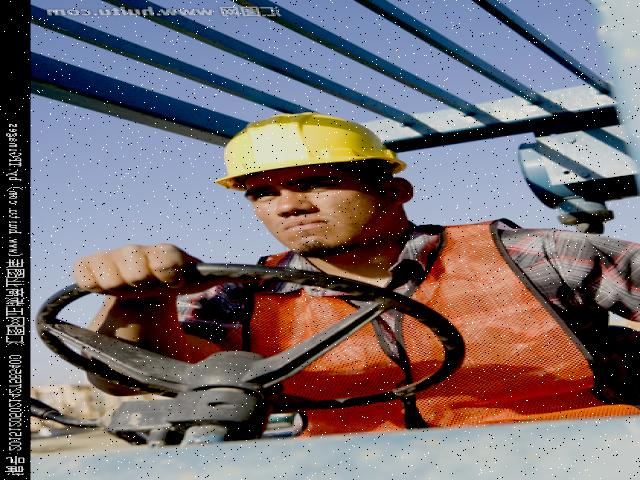Helmet: (207, 108, 417, 195)
